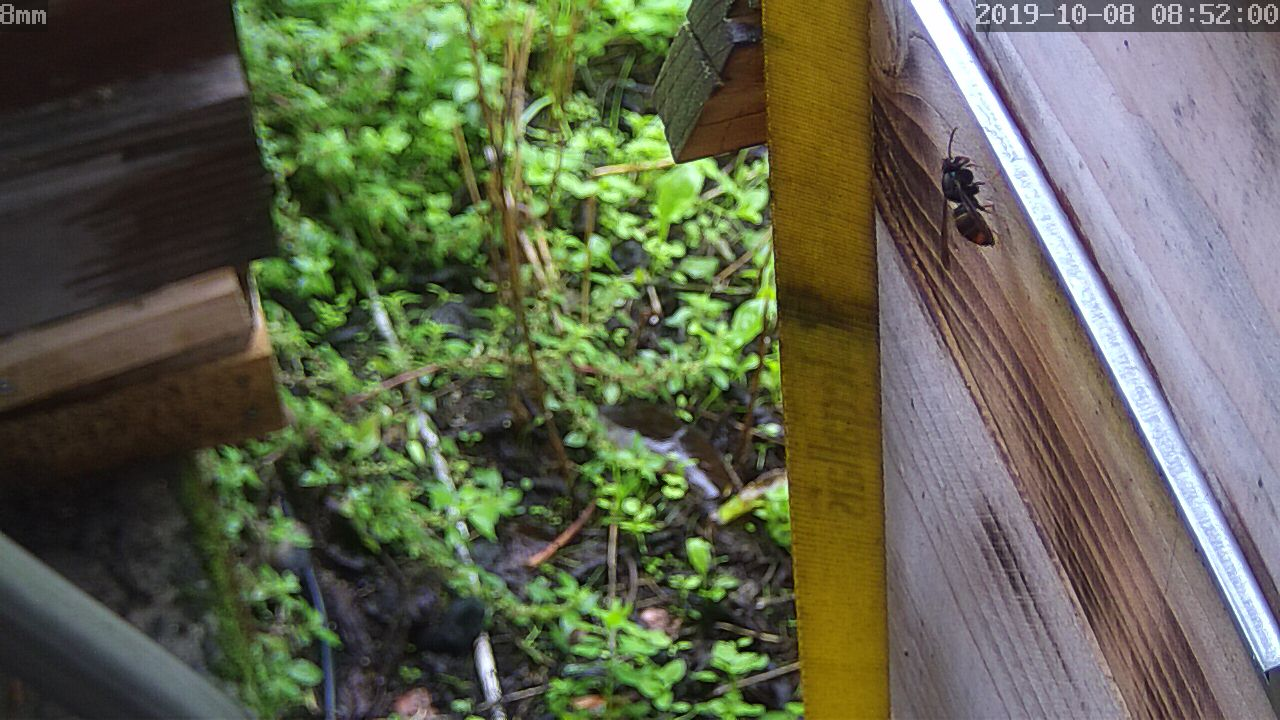hornet: (925, 146, 1008, 254)
